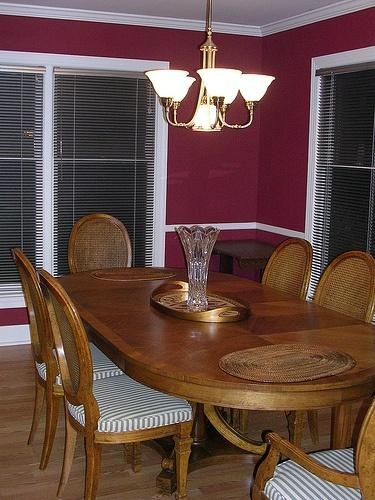chair: (39, 270, 193, 500), (11, 249, 124, 473), (250, 403, 375, 500), (312, 249, 374, 323), (68, 213, 134, 274), (262, 238, 315, 301)
diningtable: (50, 268, 375, 500)
